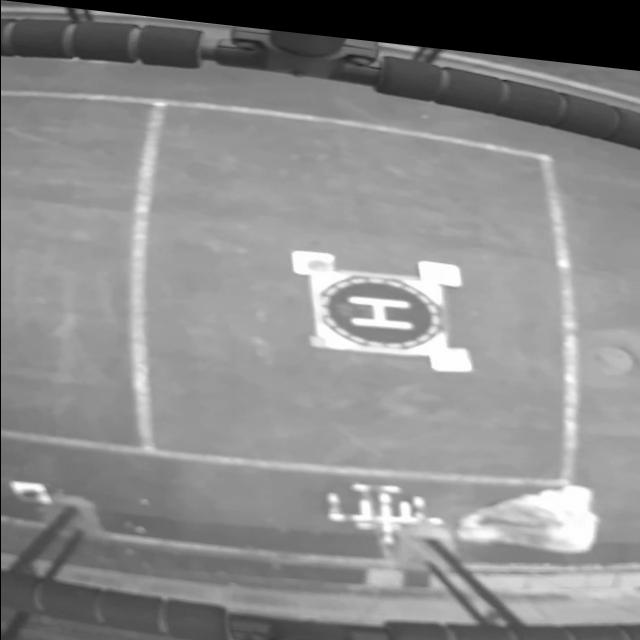Helipad: (347, 288, 412, 321)
